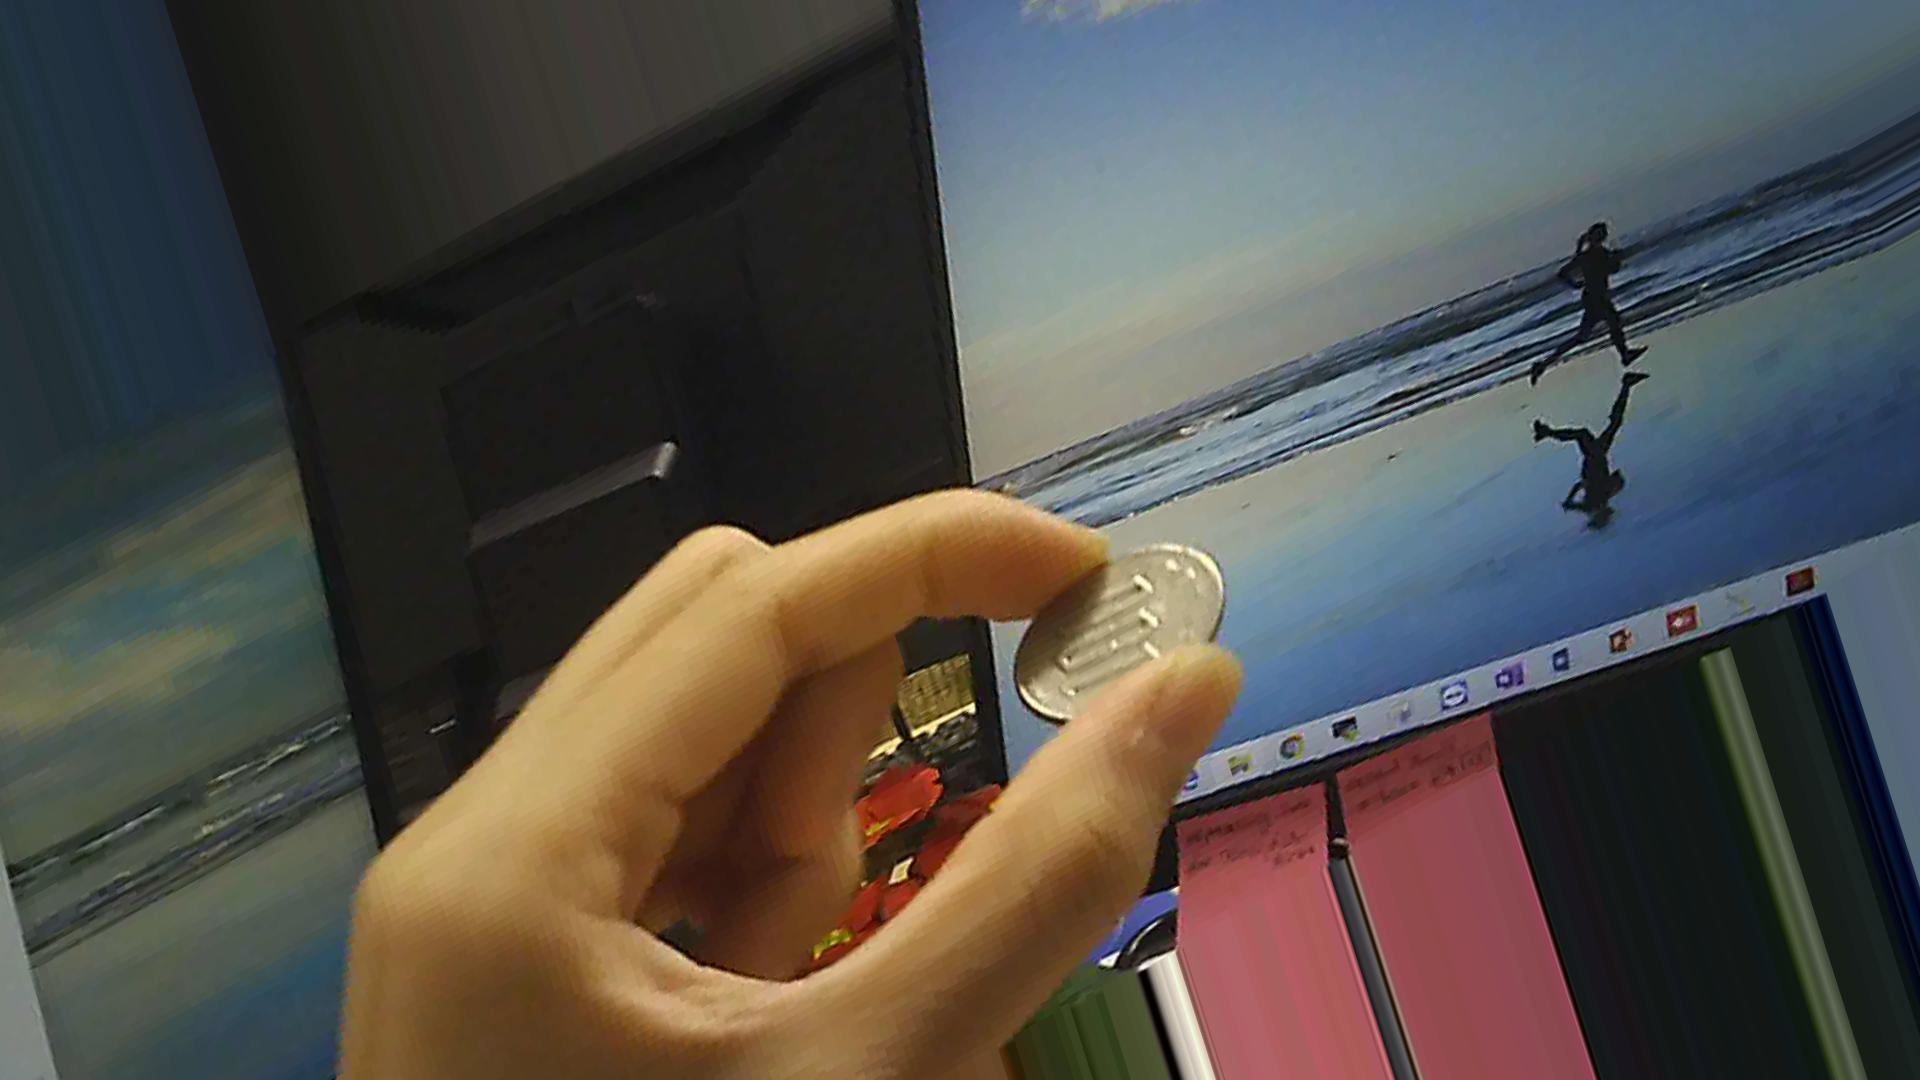100 Yen: (1000, 524, 1236, 732)
